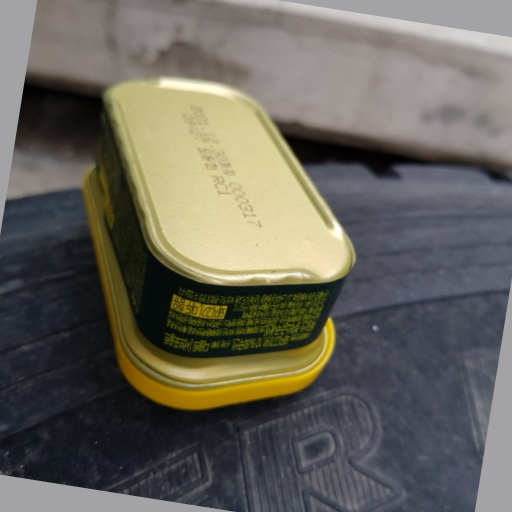Metal_2: (81, 75, 357, 418)
